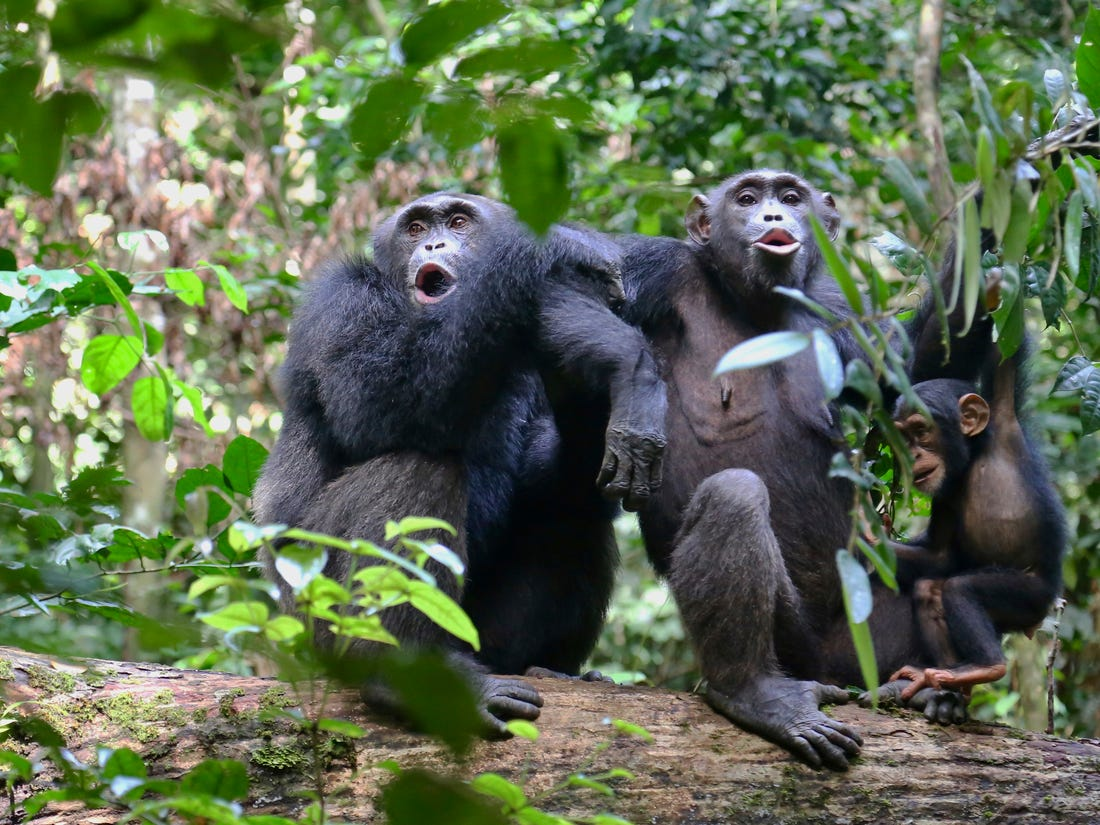Chimpanzee: (248, 153, 619, 678), (628, 160, 878, 744), (898, 286, 1061, 748)
